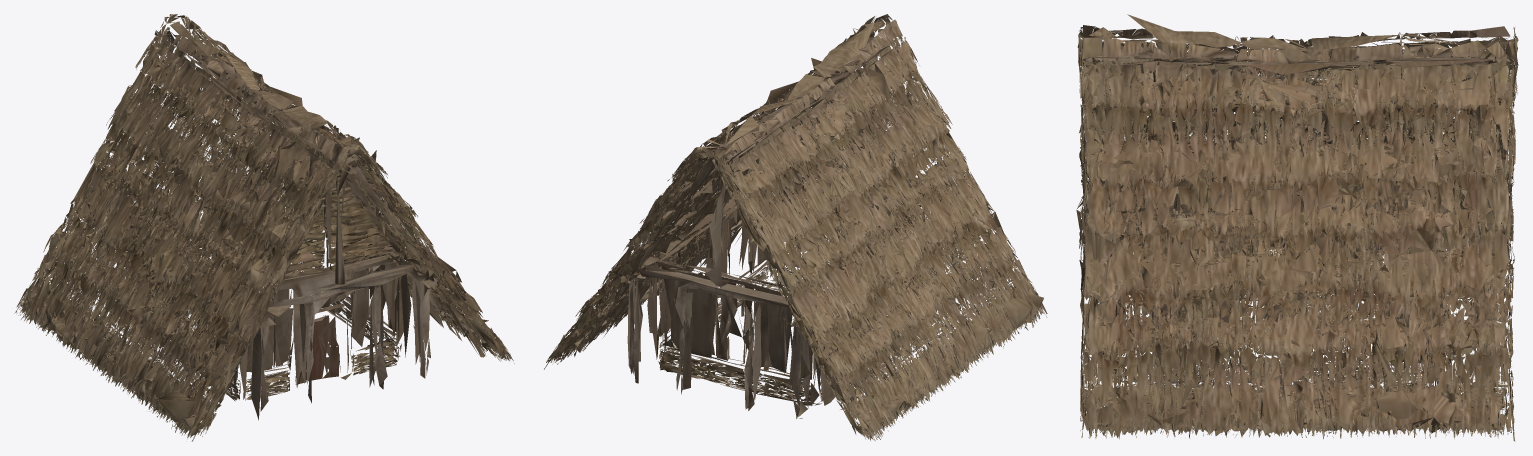
The model's file is guaranies_casa.glb.
3 views of the same model, side by side, from view 1: azimuth 30°, elevation 25°; view 2: azimuth 150°, elevation 25°; view 3: azimuth 270°, elevation 25° (orthographic). The views are drawn at different scales.
Parts seen in each view (by area): view 1: Mesh_0; view 2: Mesh_0; view 3: Mesh_0.
Part boxes in pixels (<box>): Mesh_0: <box>14,14,514,441</box>; Mesh_0: <box>544,14,1047,441</box>; Mesh_0: <box>1076,14,1518,441</box>.
Size of the model in its own units: 1.96 by 1.51 by 1.83.
Materials: 1 (1 with a texture image).
